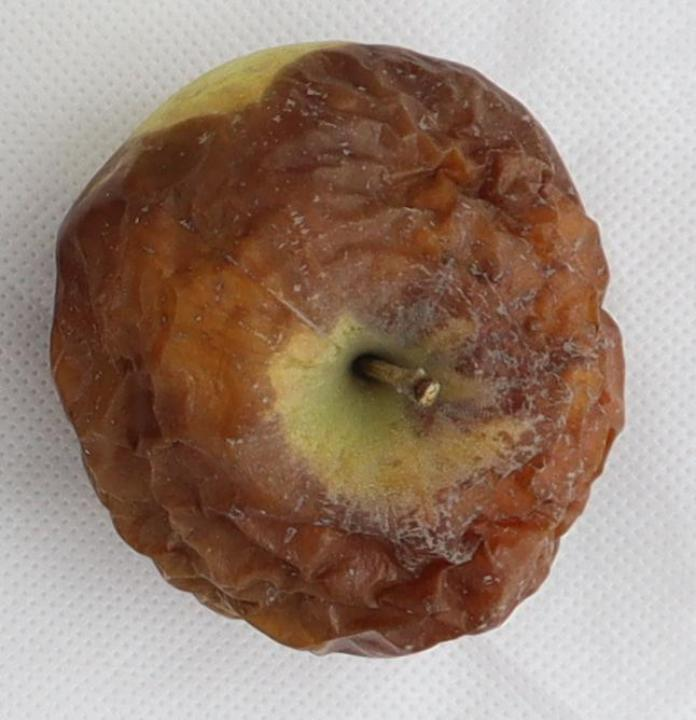apple: (51, 43, 622, 655)
rot_mold_decay: (53, 45, 621, 654)
